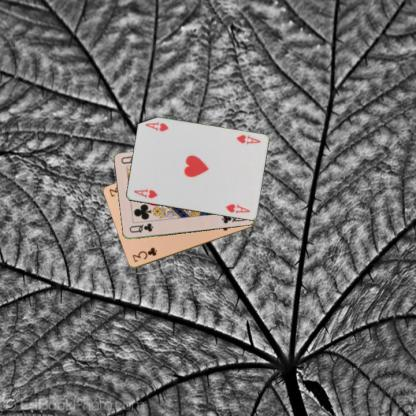3c: (130, 245, 158, 263)
Ah: (234, 132, 262, 146), (131, 187, 158, 199)
Qc: (127, 221, 154, 234)
